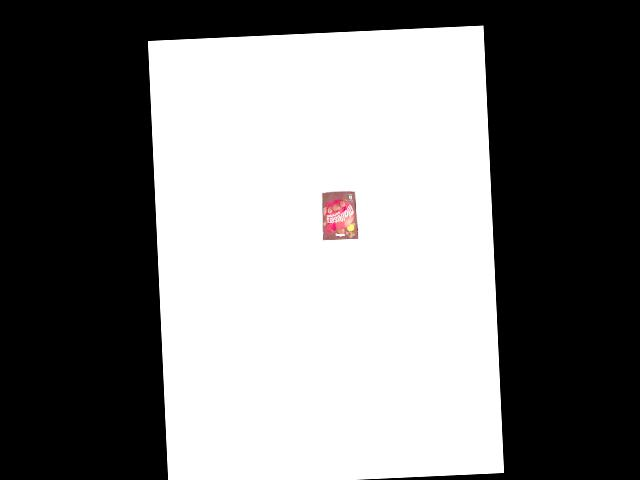chocolate: (320, 189, 358, 241)
